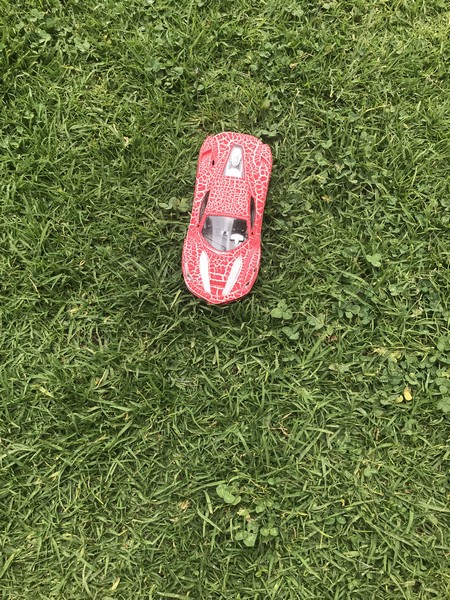RC: (180, 131, 275, 307)
